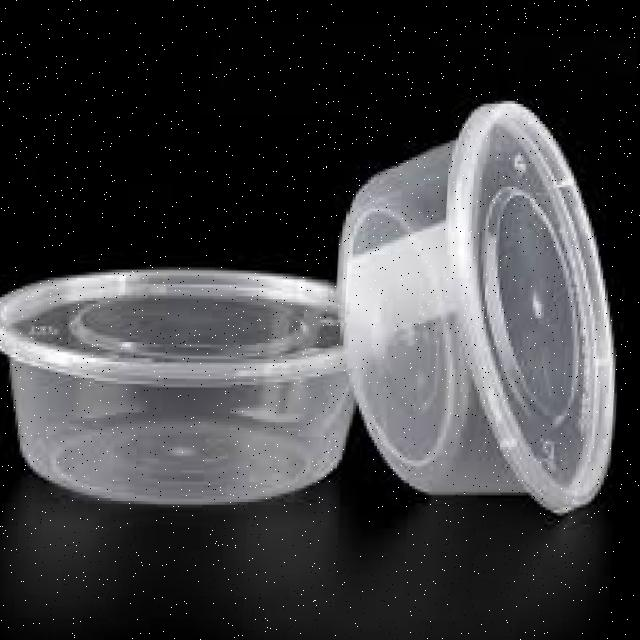disposable: (327, 88, 637, 533), (0, 244, 387, 525)
